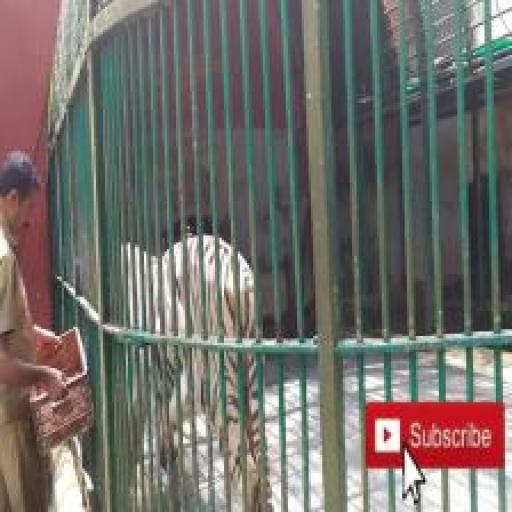Elephant: (91, 235, 270, 512)
